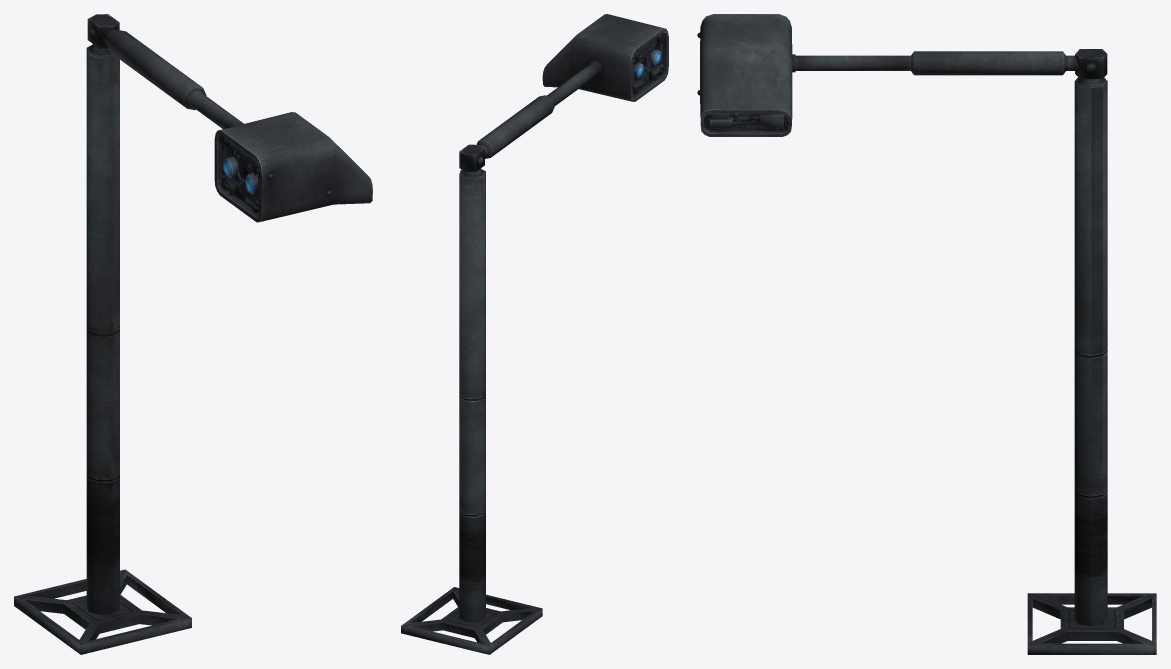
Rendered from 00_04_scan_screen.dae.
3 views of the same model, side by side, from view 1: azimuth 30°, elevation 25°; view 2: azimuth 150°, elevation 25°; view 3: azimuth 270°, elevation 25° (orthographic). The views are drawn at different scales.
Visible parts, largest first — view 1: scan_screen1, scan_screen; view 2: scan_screen1, scan_screen; view 3: scan_screen1, scan_screen.
Part boxes in pixels (x1=…): scan_screen1: x1=14, y1=44, x2=191, y2=654; scan_screen: x1=87, y1=14, x2=372, y2=222; scan_screen1: x1=401, y1=168, x2=542, y2=654; scan_screen: x1=459, y1=14, x2=668, y2=172; scan_screen1: x1=1027, y1=77, x2=1156, y2=654; scan_screen: x1=697, y1=14, x2=1107, y2=136.
Size of the model in its own units: 0.2396 by 1.15 by 0.8082.
